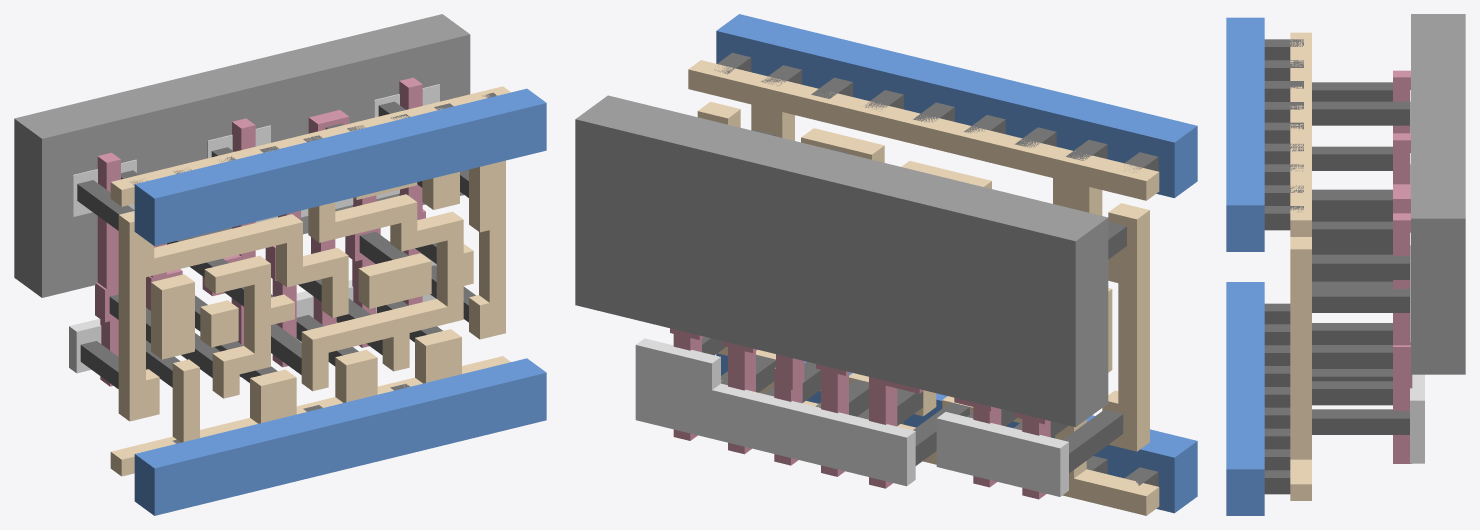
Rendered from sky130_fd_sc_hd__or4bb_1.gds.gltf.
The picture shows the model from 3 angles, left to right: view 1: azimuth 30°, elevation 25°; view 2: azimuth 150°, elevation 25°; view 3: azimuth 270°, elevation 25°; orthographic projection. The views are drawn at different scales.
Parts seen in each view (by area): view 1: sky130_fd_sc_hd__or4bb_1_li1, sky130_fd_sc_hd__or4bb_1_met1, sky130_fd_sc_hd__or4bb_1_nwell, sky130_fd_sc_hd__or4bb_1_licon, sky130_fd_sc_hd__or4bb_1_poly, sky130_fd_sc_hd__or4bb_1_diff, sky130_fd_sc_hd__or4bb_1_mcon; view 2: sky130_fd_sc_hd__or4bb_1_nwell, sky130_fd_sc_hd__or4bb_1_li1, sky130_fd_sc_hd__or4bb_1_met1, sky130_fd_sc_hd__or4bb_1_diff, sky130_fd_sc_hd__or4bb_1_poly, sky130_fd_sc_hd__or4bb_1_licon, sky130_fd_sc_hd__or4bb_1_mcon; view 3: sky130_fd_sc_hd__or4bb_1_licon, sky130_fd_sc_hd__or4bb_1_nwell, sky130_fd_sc_hd__or4bb_1_met1, sky130_fd_sc_hd__or4bb_1_mcon, sky130_fd_sc_hd__or4bb_1_li1, sky130_fd_sc_hd__or4bb_1_poly, sky130_fd_sc_hd__or4bb_1_diff.
Part boxes in pixels (x1,y1,x2,y2): sky130_fd_sc_hd__or4bb_1_li1: (110, 86, 510, 476); sky130_fd_sc_hd__or4bb_1_met1: (134, 88, 546, 515); sky130_fd_sc_hd__or4bb_1_nwell: (14, 14, 470, 297); sky130_fd_sc_hd__or4bb_1_licon: (77, 101, 475, 388); sky130_fd_sc_hd__or4bb_1_poly: (95, 77, 425, 386); sky130_fd_sc_hd__or4bb_1_diff: (69, 84, 439, 373); sky130_fd_sc_hd__or4bb_1_mcon: (129, 92, 497, 443); sky130_fd_sc_hd__or4bb_1_nwell: (575, 95, 1108, 427); sky130_fd_sc_hd__or4bb_1_li1: (688, 60, 1159, 515); sky130_fd_sc_hd__or4bb_1_met1: (716, 14, 1197, 513); sky130_fd_sc_hd__or4bb_1_diff: (635, 338, 1068, 496); sky130_fd_sc_hd__or4bb_1_poly: (670, 328, 1050, 499); sky130_fd_sc_hd__or4bb_1_licon: (702, 130, 1126, 473); sky130_fd_sc_hd__or4bb_1_mcon: (714, 52, 1158, 486); sky130_fd_sc_hd__or4bb_1_licon: (1312, 82, 1409, 434); sky130_fd_sc_hd__or4bb_1_nwell: (1411, 14, 1465, 374); sky130_fd_sc_hd__or4bb_1_met1: (1226, 17, 1264, 515); sky130_fd_sc_hd__or4bb_1_mcon: (1264, 39, 1303, 494); sky130_fd_sc_hd__or4bb_1_li1: (1290, 32, 1311, 500); sky130_fd_sc_hd__or4bb_1_poly: (1393, 70, 1412, 463); sky130_fd_sc_hd__or4bb_1_diff: (1410, 90, 1424, 463).
Bounding box in the file's own units: 4.52 × 3.2 × 2.24.
